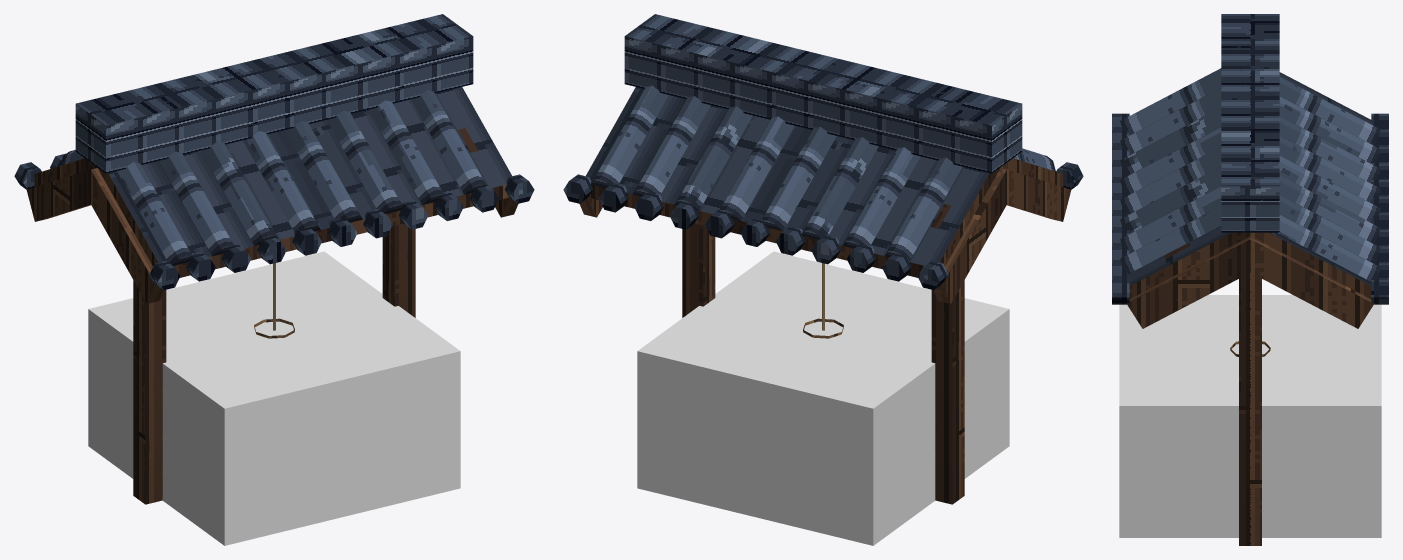
The model's file is JP_Prop_Well_A.glb.
3 views of the same model, side by side, from view 1: azimuth 30°, elevation 25°; view 2: azimuth 150°, elevation 25°; view 3: azimuth 270°, elevation 25° (orthographic). The views are drawn at different scales.
Visible parts, largest first — view 1: JP_Prop_Well_A, COL_JP_Prop_Well_A; view 2: JP_Prop_Well_A, COL_JP_Prop_Well_A; view 3: JP_Prop_Well_A, COL_JP_Prop_Well_A.
Boxes of the visible parts, <box> form: JP_Prop_Well_A: <box>14,14,534,504</box>; COL_JP_Prop_Well_A: <box>88,251,460,545</box>; JP_Prop_Well_A: <box>563,14,1083,504</box>; COL_JP_Prop_Well_A: <box>637,251,1009,545</box>; JP_Prop_Well_A: <box>1112,14,1388,545</box>; COL_JP_Prop_Well_A: <box>1119,295,1381,537</box>.
Bounding box in the file's own units: 2.87 × 2.9 × 1.9.
Materials: 9 (9 with a texture image).
